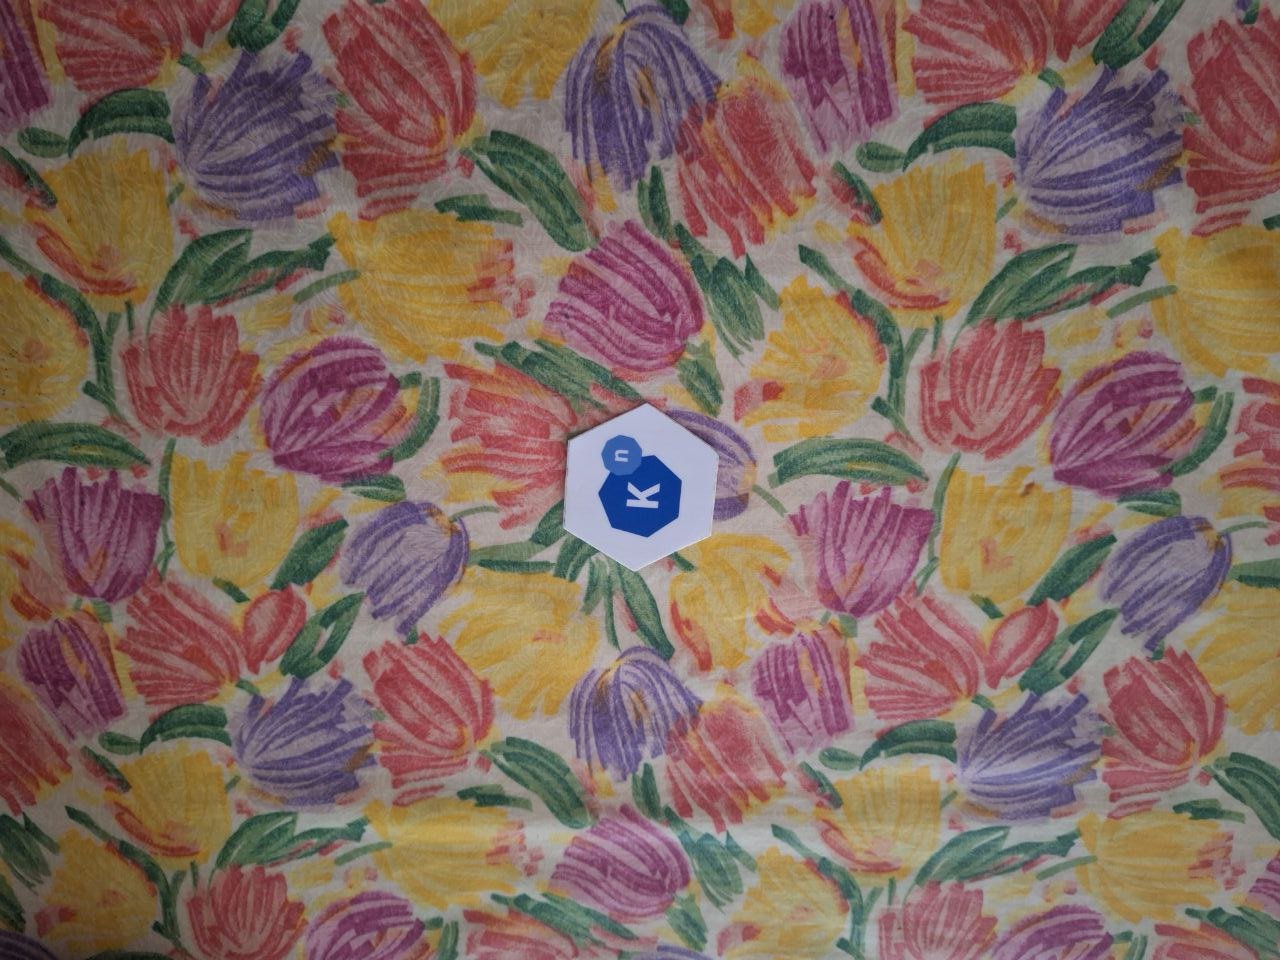knative: (594, 436, 682, 541)
